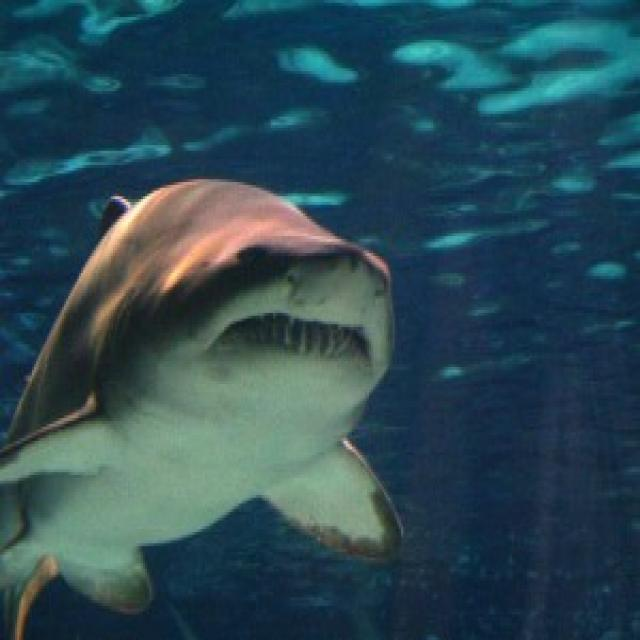Shark: (0, 154, 414, 628)
